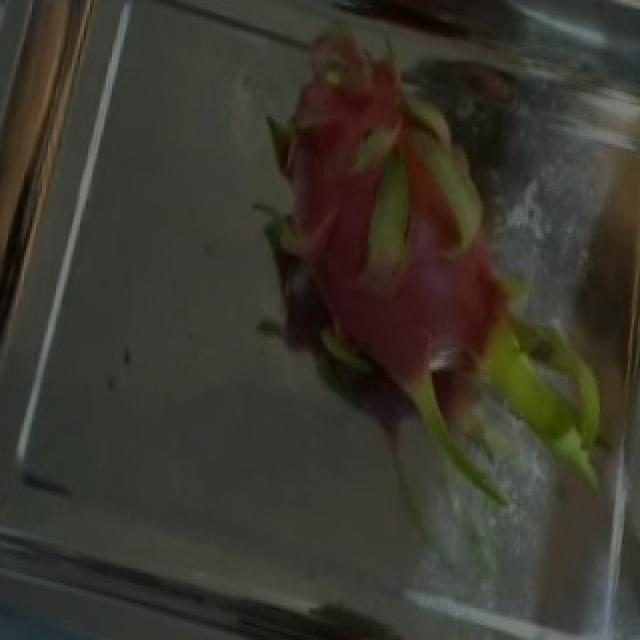fruit: (192, 30, 632, 486)
